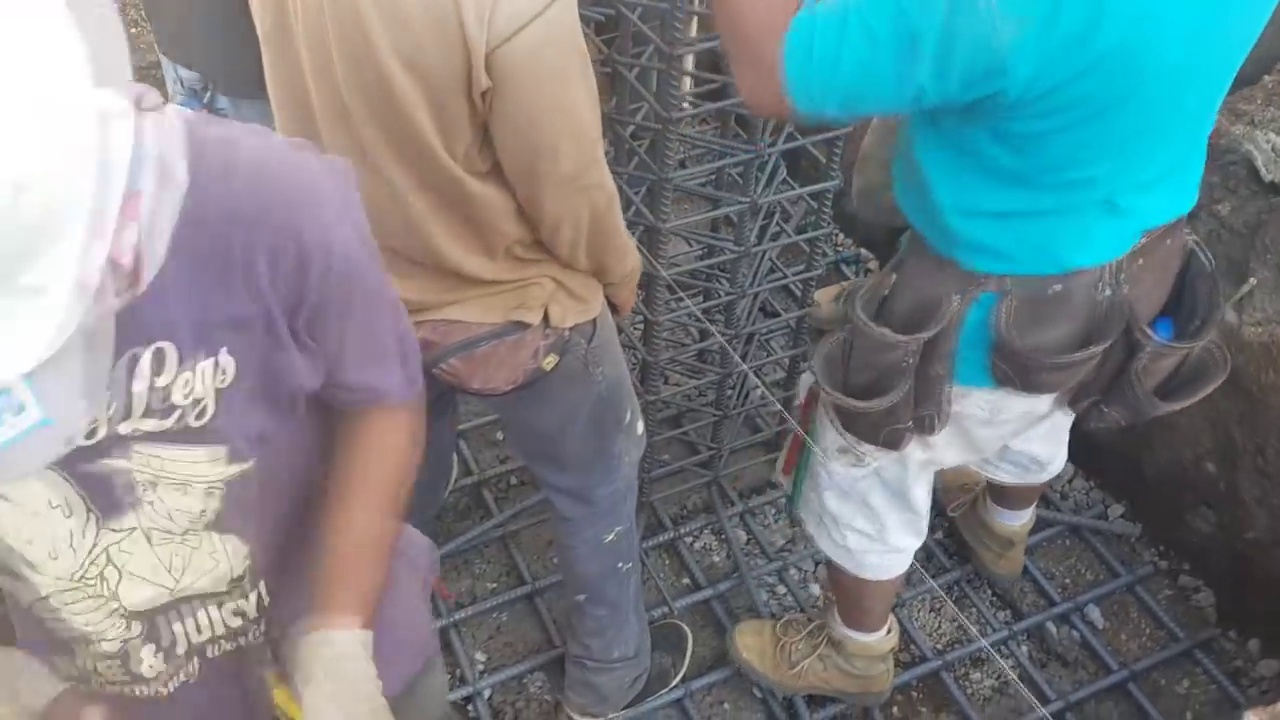helmet: (0, 2, 144, 384)
helmet-on: (0, 3, 181, 483)
person: (705, 0, 1222, 668), (0, 2, 441, 720), (242, 2, 661, 720)
